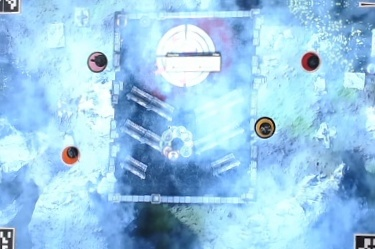orange: (57, 145, 81, 168)
pink_green: (87, 51, 110, 75)
red: (299, 50, 322, 74)
yellow_night_blue: (253, 115, 277, 139)
